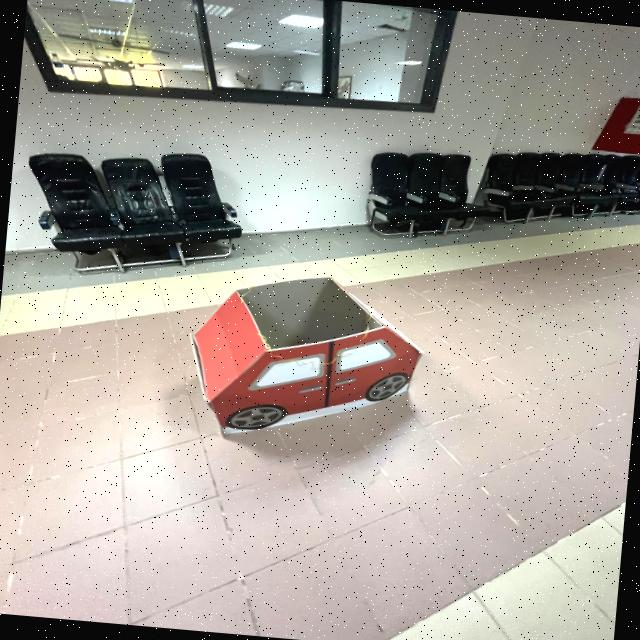red_car: (159, 249, 448, 485)
